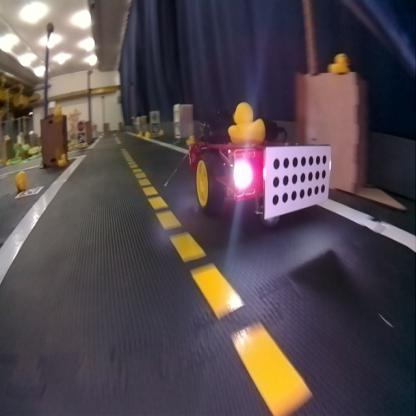Duckie: (228, 104, 264, 142), (328, 53, 349, 71), (13, 172, 23, 190), (57, 152, 67, 166), (54, 103, 62, 113), (186, 135, 194, 145)
Duckiebot: (188, 138, 330, 219)
QR code: (14, 186, 44, 198)
